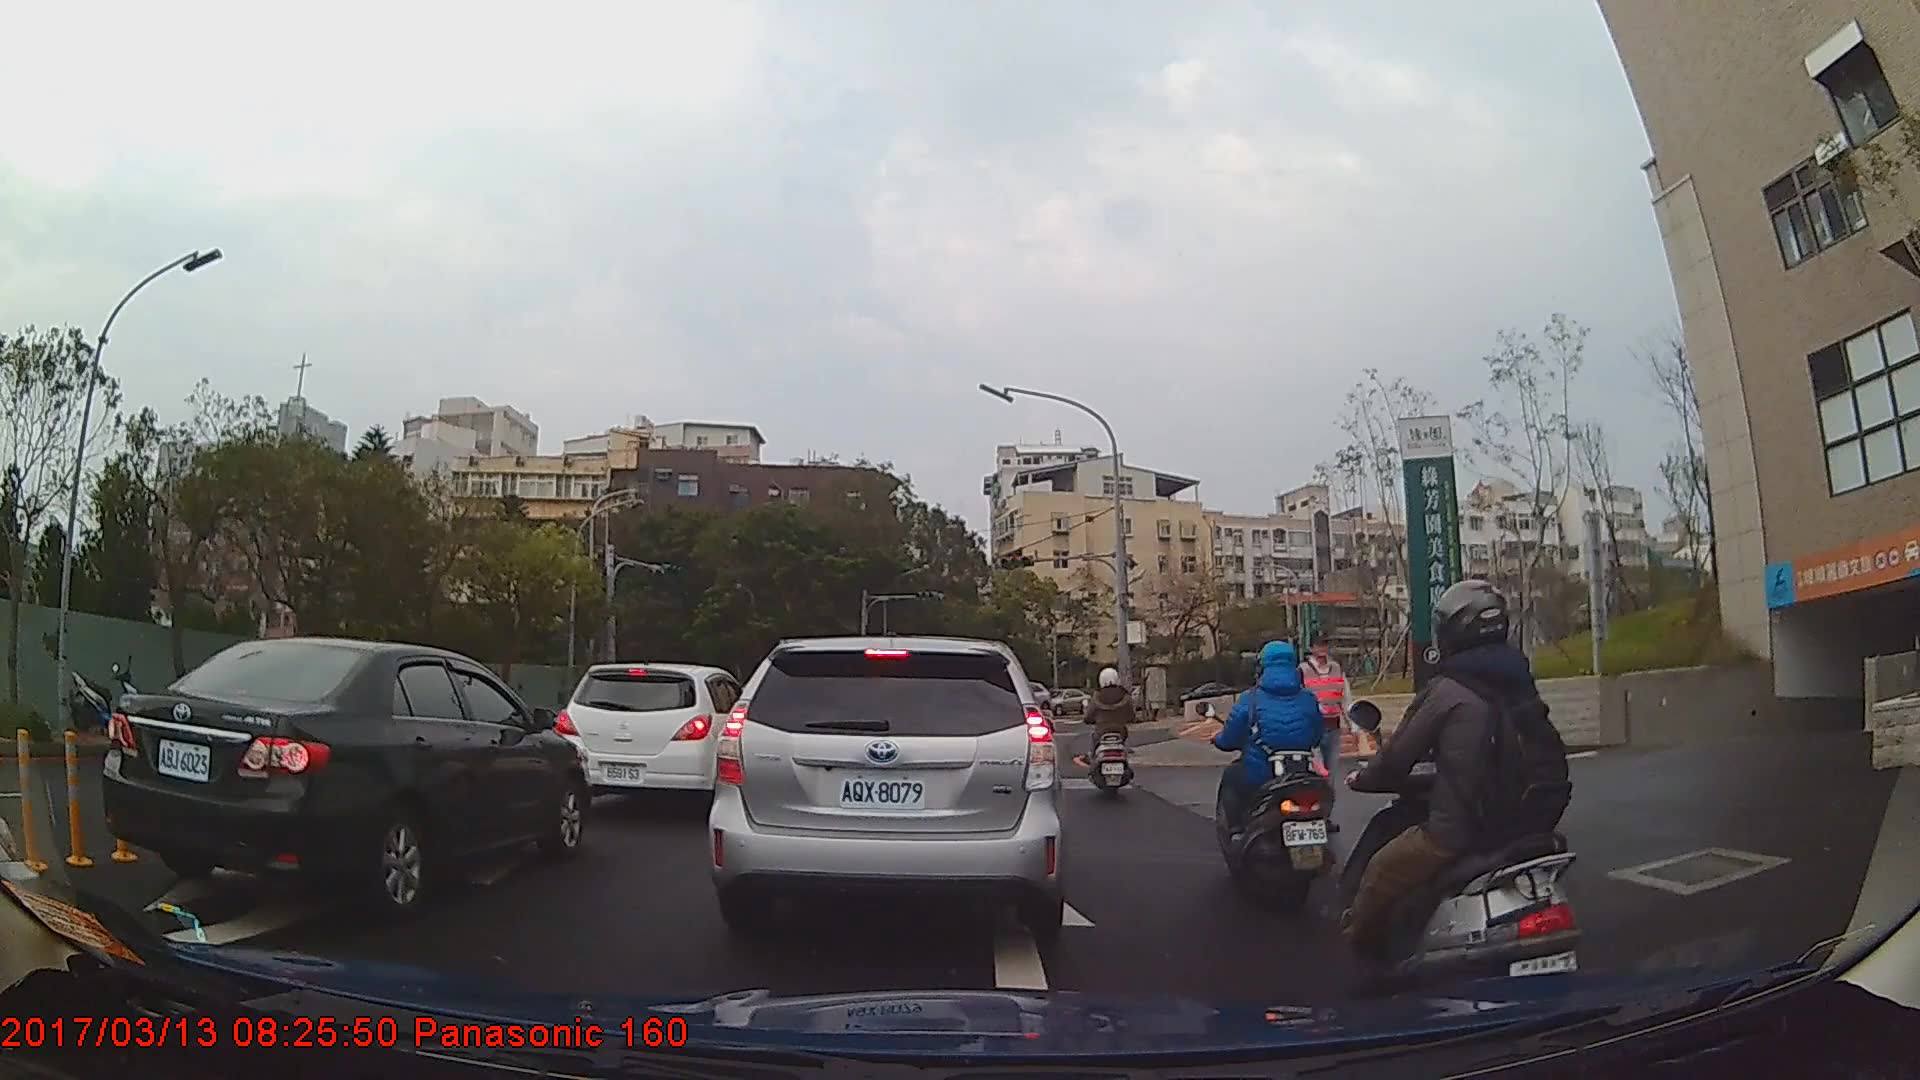pedestrian: (1281, 631, 1358, 844)
rider: (1331, 580, 1584, 1042), (1212, 638, 1336, 909), (1082, 669, 1140, 804)
vehicle: (102, 634, 586, 909), (707, 633, 1066, 941), (551, 662, 753, 818), (1174, 679, 1239, 712), (1048, 687, 1088, 716)
